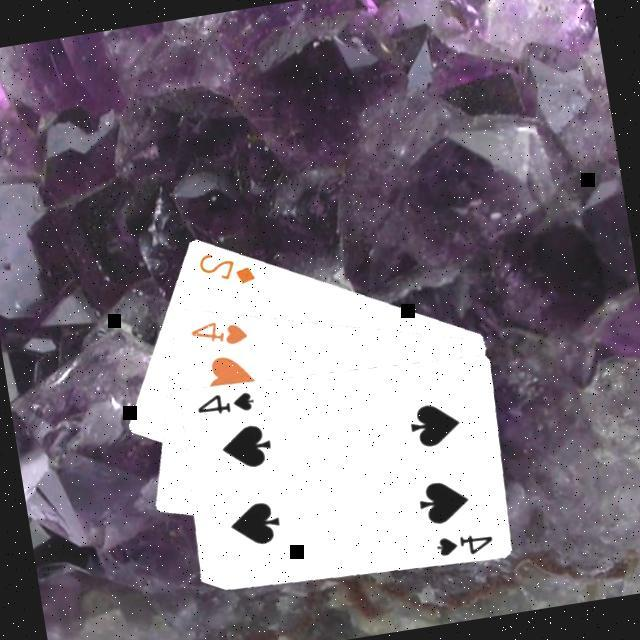2D: (194, 241, 261, 292)
4H: (185, 310, 253, 353)
4S: (191, 382, 259, 420), (432, 524, 499, 560)
